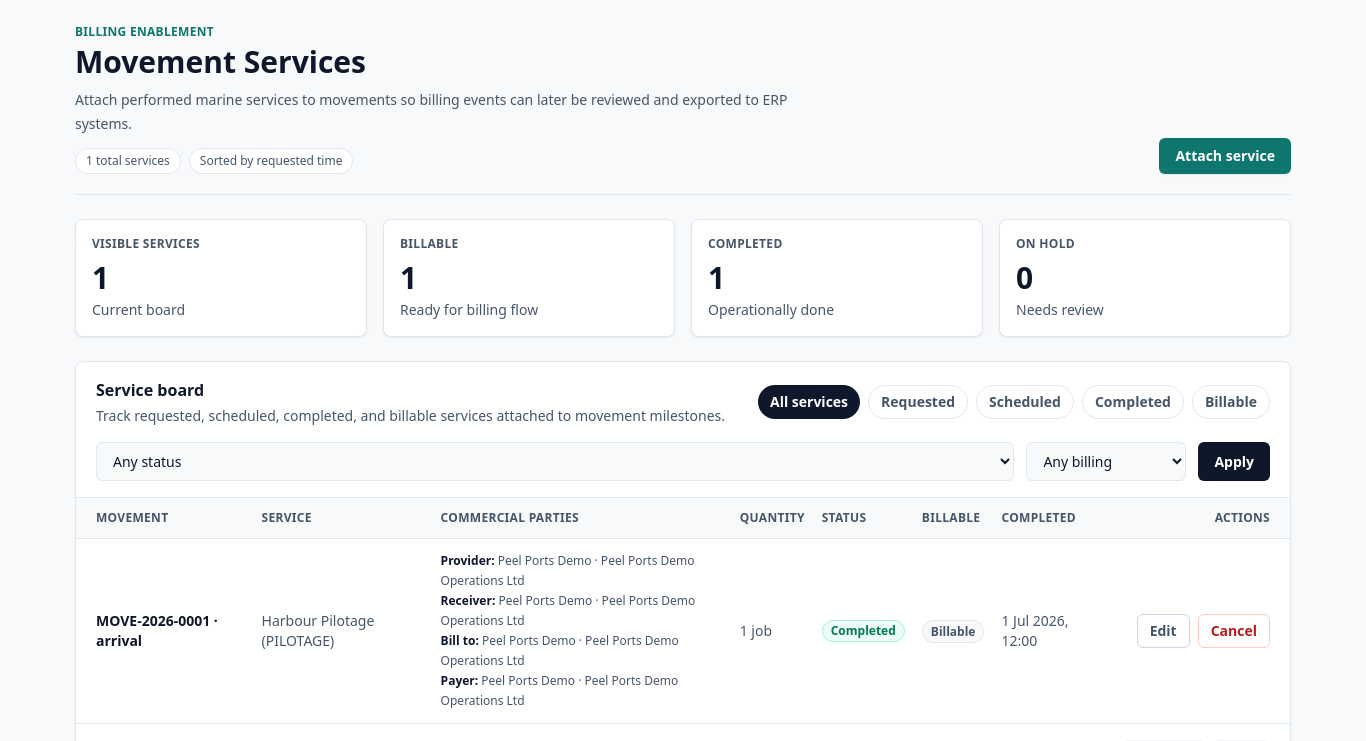
Test: MovementServicesPage › opens the movement service editor from the table row
Expected: the text "Harbour Pilotage (PILOTAGE)" is shown, [261,538,440,723]
Click the row "Harbour Pilotage" at (683, 631), box [76,538,1290,723]
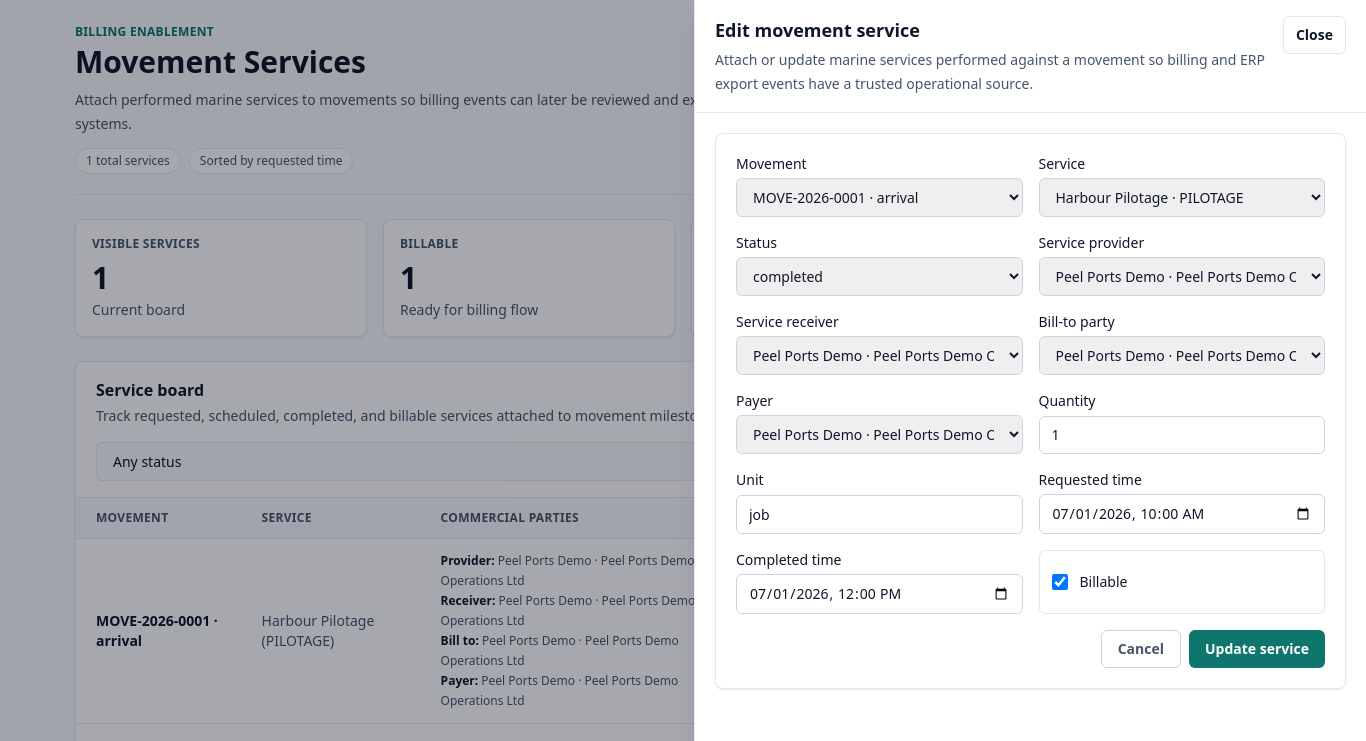
Now the heading "Edit movement service" is shown, box [715,18,920,42]
Now the number field showing "1" is shown, box [1038,416,1325,454]
